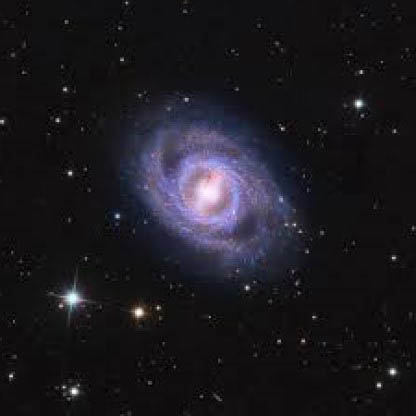Messier 95: (120, 98, 317, 290)
